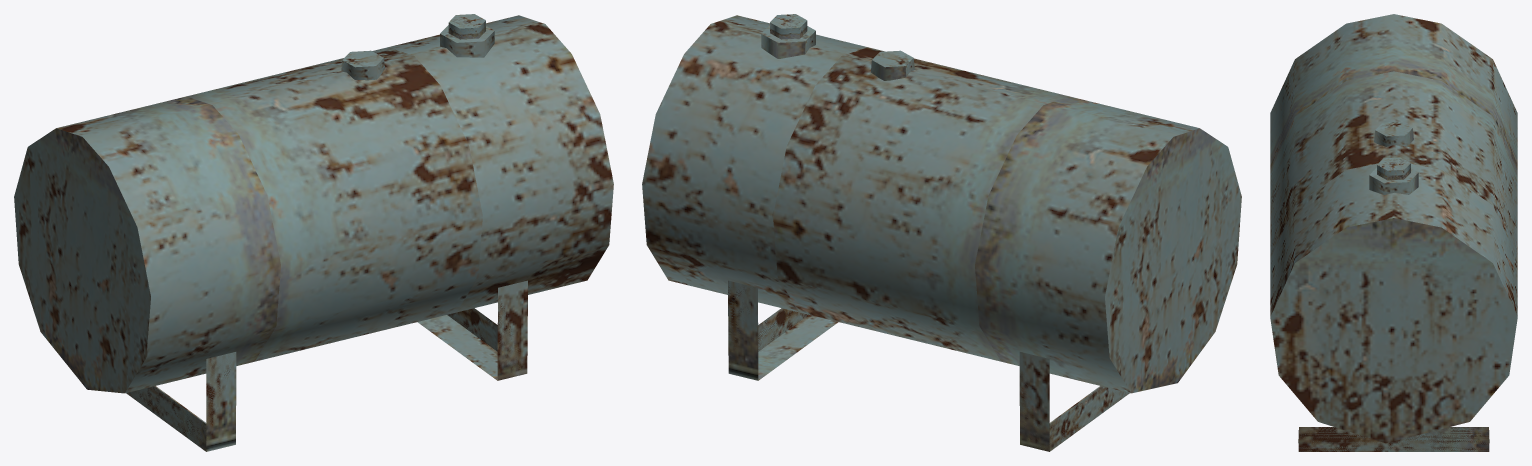
Rendered from FuelTank_LOD2.fbx.
The picture shows the model from 3 angles, left to right: view 1: azimuth 30°, elevation 25°; view 2: azimuth 150°, elevation 25°; view 3: azimuth 270°, elevation 25°; orthographic projection. The views are drawn at different scales.
Visible parts, largest first — view 1: polySurface399; view 2: polySurface399; view 3: polySurface399.
Boxes of the visible parts, bbox=[...] form: polySurface399: bbox=[14, 14, 613, 451]; polySurface399: bbox=[642, 14, 1241, 451]; polySurface399: bbox=[1270, 14, 1517, 451].
Bounding box in the file's own units: 3.59 × 2.31 × 1.82.
